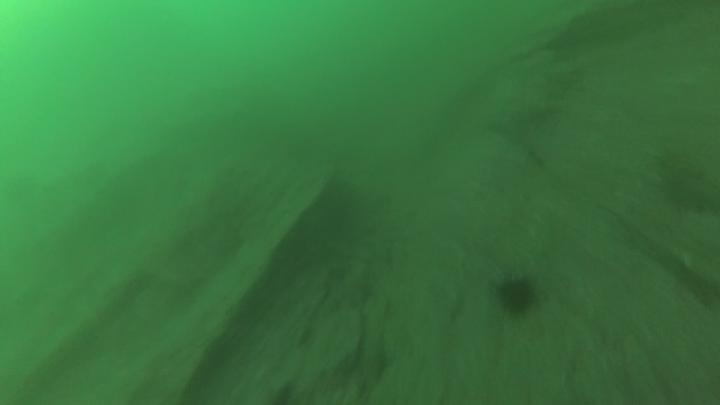echinus: (493, 273, 539, 319)
starfish: (482, 88, 562, 166)
